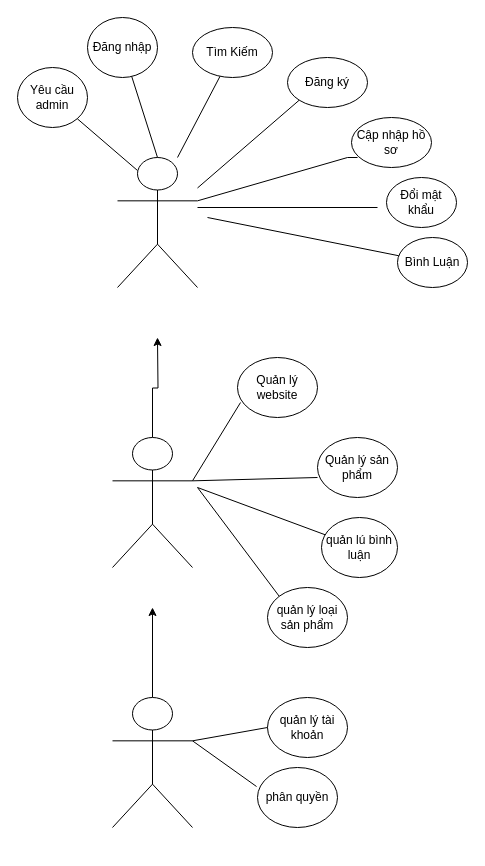
The diagram is 485 pixels wide and 866 high, and some of its shapes have lost their labels. The shapes that lost their labels are listed below. From the top down, each one's centre as x and y in pixels, then its label:
At point 157,222: "Người dùng".
At point 152,502: "admin".
At point 152,762: "super_admin".
